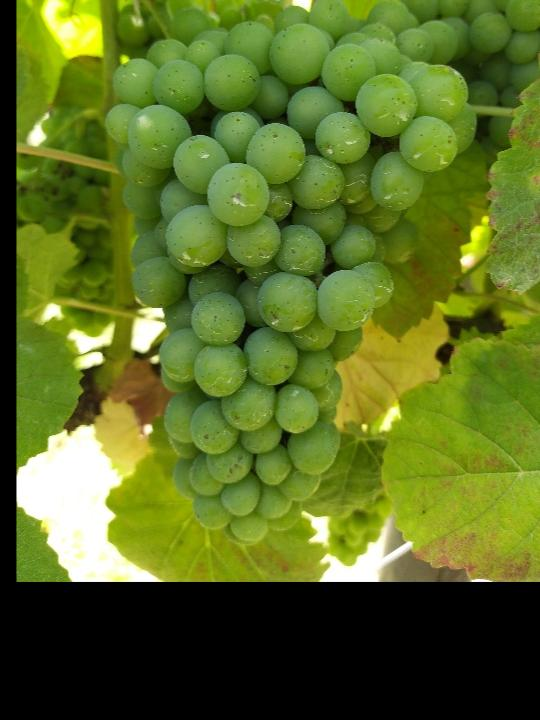grape: (106, 0, 486, 550)
